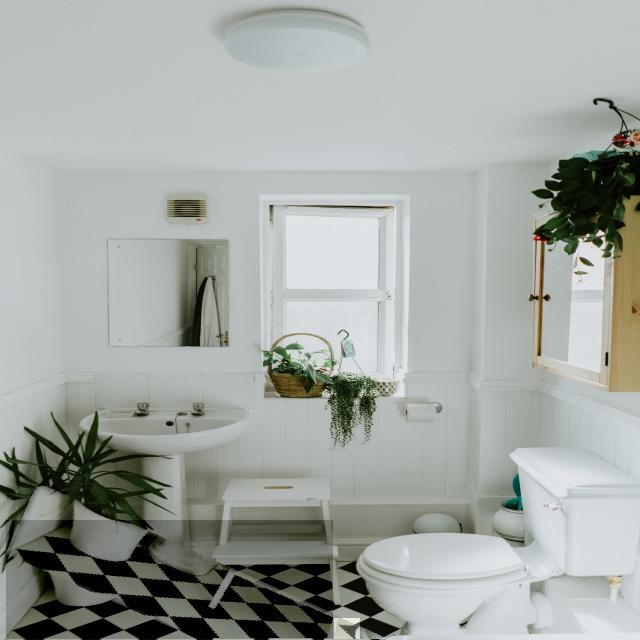floor: (6, 521, 333, 639), (335, 619, 360, 640), (459, 622, 466, 626)
